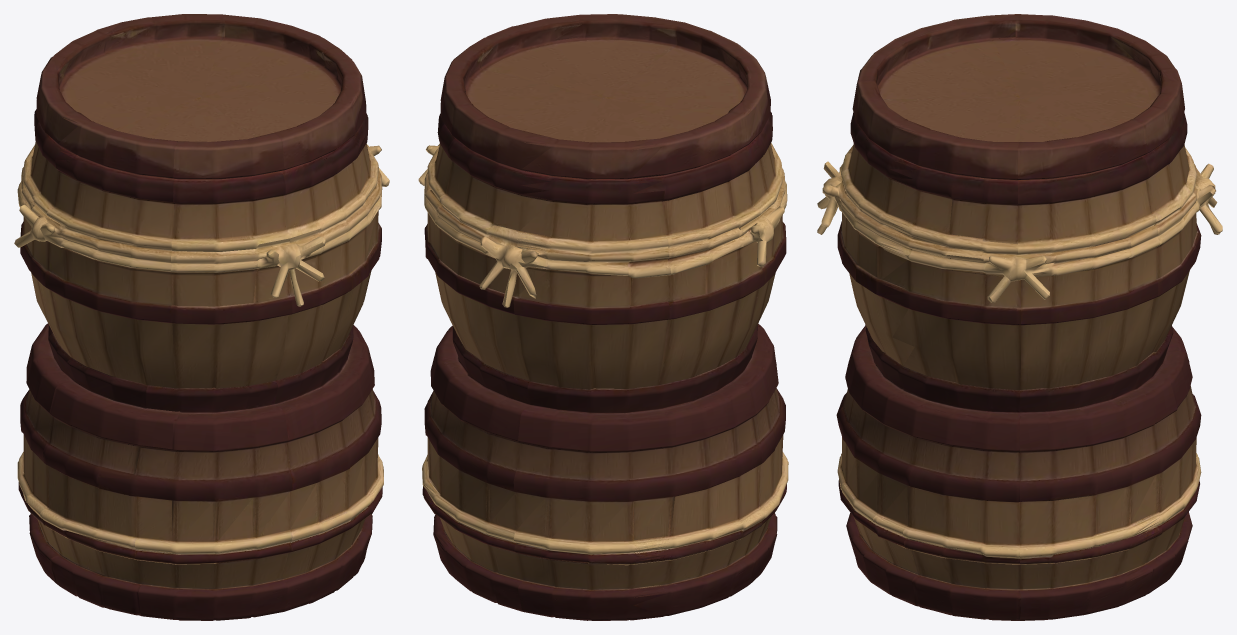
File: sake-tower.opt.glb
The picture shows the model from 3 angles, left to right: view 1: azimuth 30°, elevation 25°; view 2: azimuth 150°, elevation 25°; view 3: azimuth 270°, elevation 25°; orthographic projection.
Size of the model in its own units: 1.47 by 1.91 by 1.48.
Materials: 1 (1 with a texture image).
